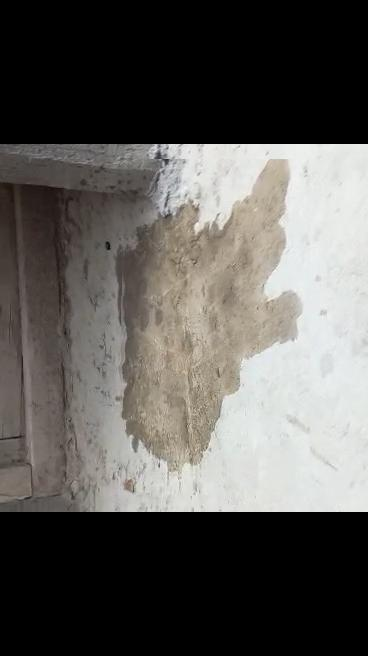water accumulation: (115, 158, 301, 468)
